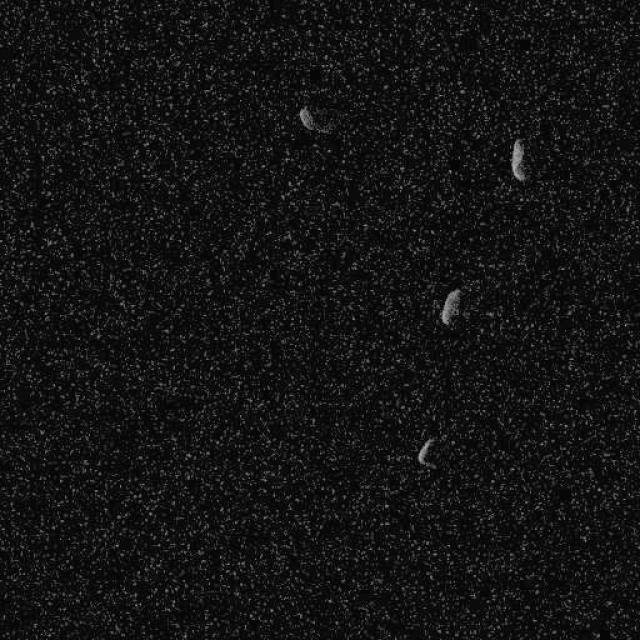D2: (298, 105, 332, 134), (438, 286, 462, 326), (510, 136, 526, 182), (415, 436, 437, 469)
